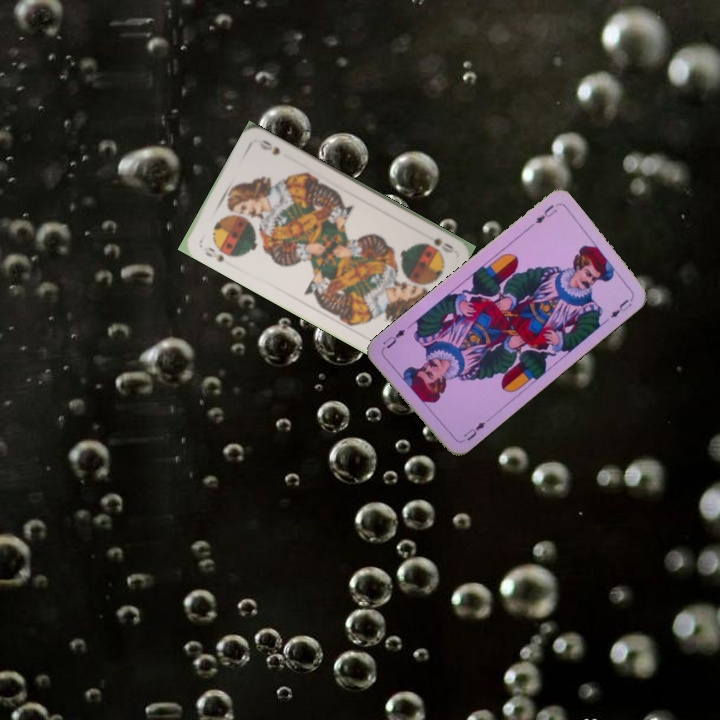EU: (457, 417, 488, 445), (530, 200, 560, 226)
SO: (201, 243, 227, 265), (429, 234, 456, 255)
